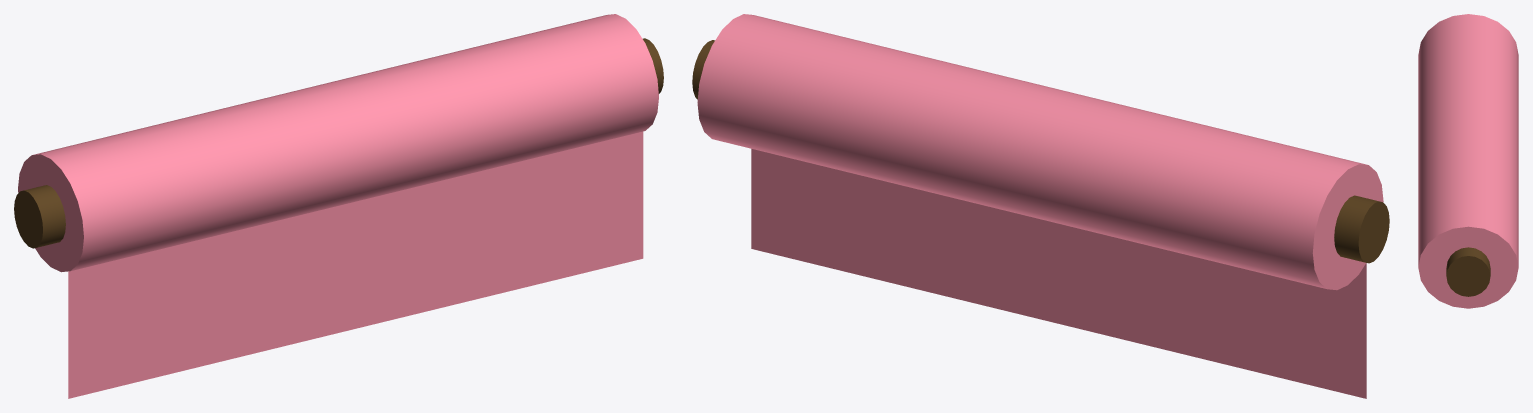
File: cortina.obj
3 renders of one model, left to right at view 1: azimuth 30°, elevation 25°; view 2: azimuth 150°, elevation 25°; view 3: azimuth 270°, elevation 25°, orthographic. The views are drawn at different scales.
Parts seen in each view (by area): view 1: cortina:polySurface4; view 2: cortina:polySurface4; view 3: cortina:polySurface4.
Boxes of the visible parts, <box> form: cortina:polySurface4: <box>14,14,663,398</box>; cortina:polySurface4: <box>692,14,1389,398</box>; cortina:polySurface4: <box>1418,14,1518,308</box>.
Size of the model in its own units: 0.8821 by 0.3081 by 0.1626.
2 materials, 2 textured.
